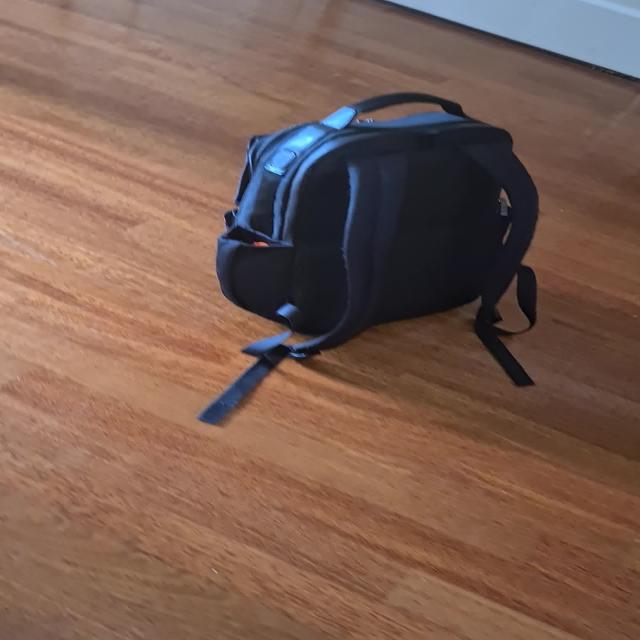backpack: (202, 82, 555, 354)
